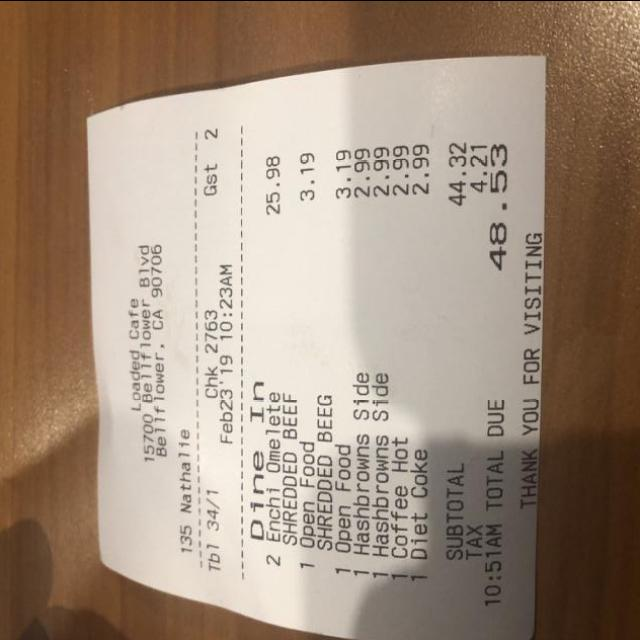kertas: (88, 55, 545, 638)
